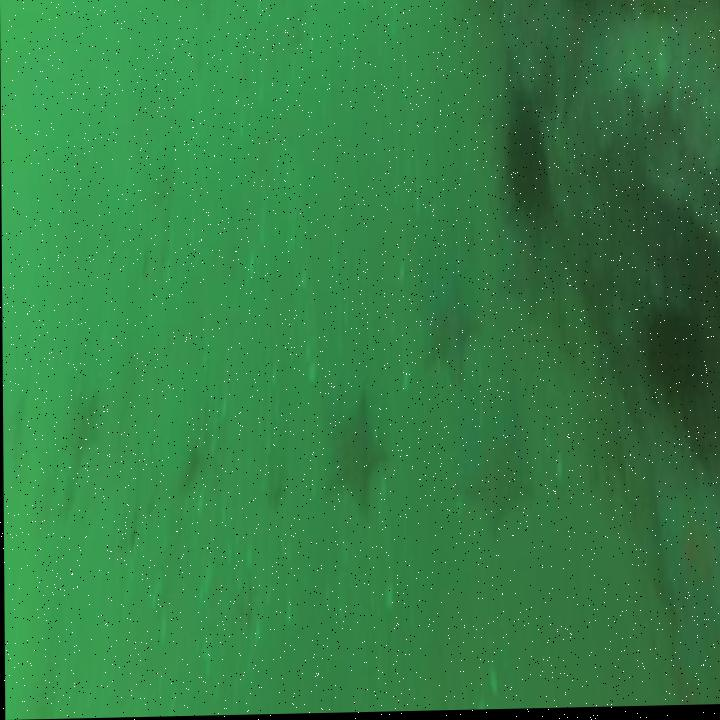echinus: (632, 281, 709, 420), (496, 97, 556, 237)
starfish: (649, 467, 720, 634), (456, 398, 533, 541), (318, 393, 387, 515), (492, 212, 562, 327), (414, 274, 482, 387), (56, 384, 102, 468)
